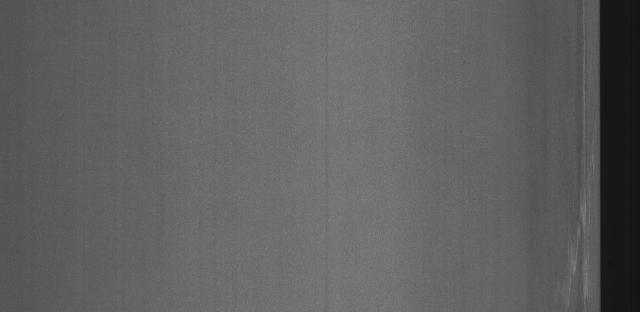silk_spot: (565, 13, 596, 307)
